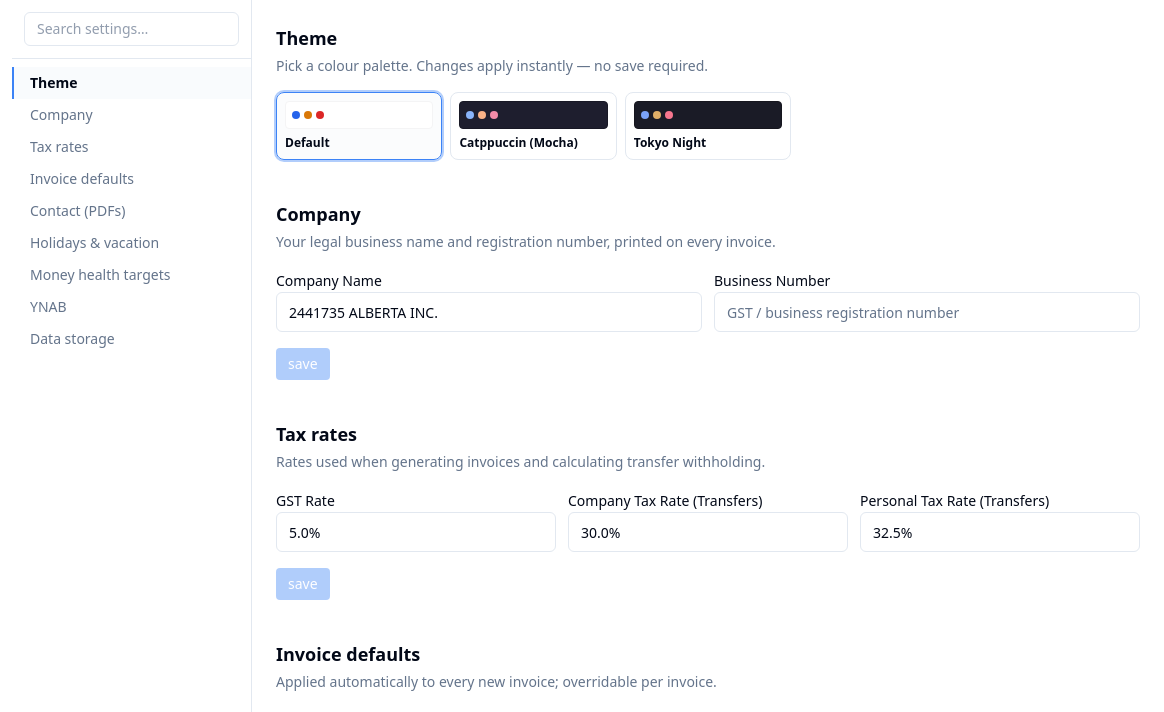
Test: Settings page › Company save button is disabled until something changes
The width and height of the screenshot is (1164, 712).
Expected: the button "save" below "Company Name" is disabled, [276, 348, 330, 380]
In the field labelled "Company Name": (489, 312) [276, 292, 702, 332], type " (Updated)"
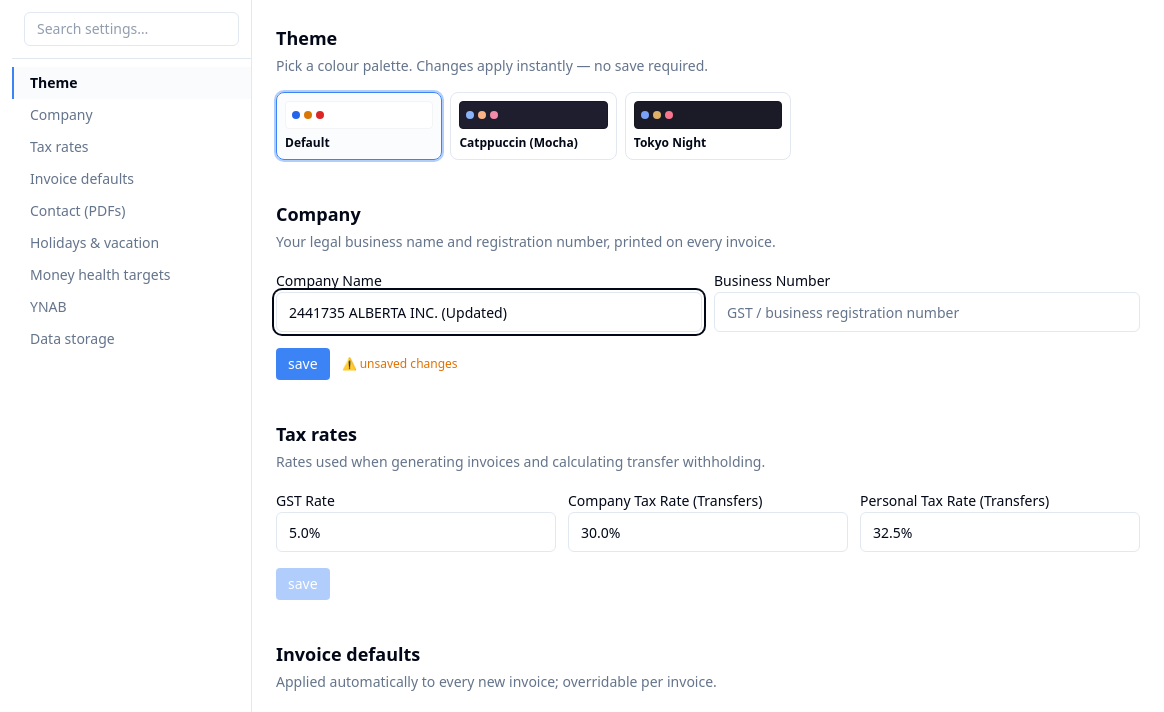
Expected: the button "save" next to "⚠ unsaved changes" is enabled, [276, 348, 330, 380]
